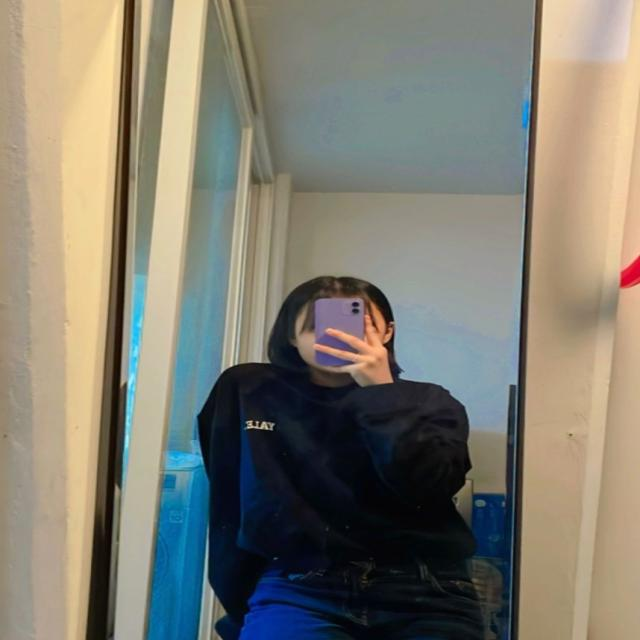denimpants: (228, 550, 492, 636)
mtm: (194, 362, 477, 629)
